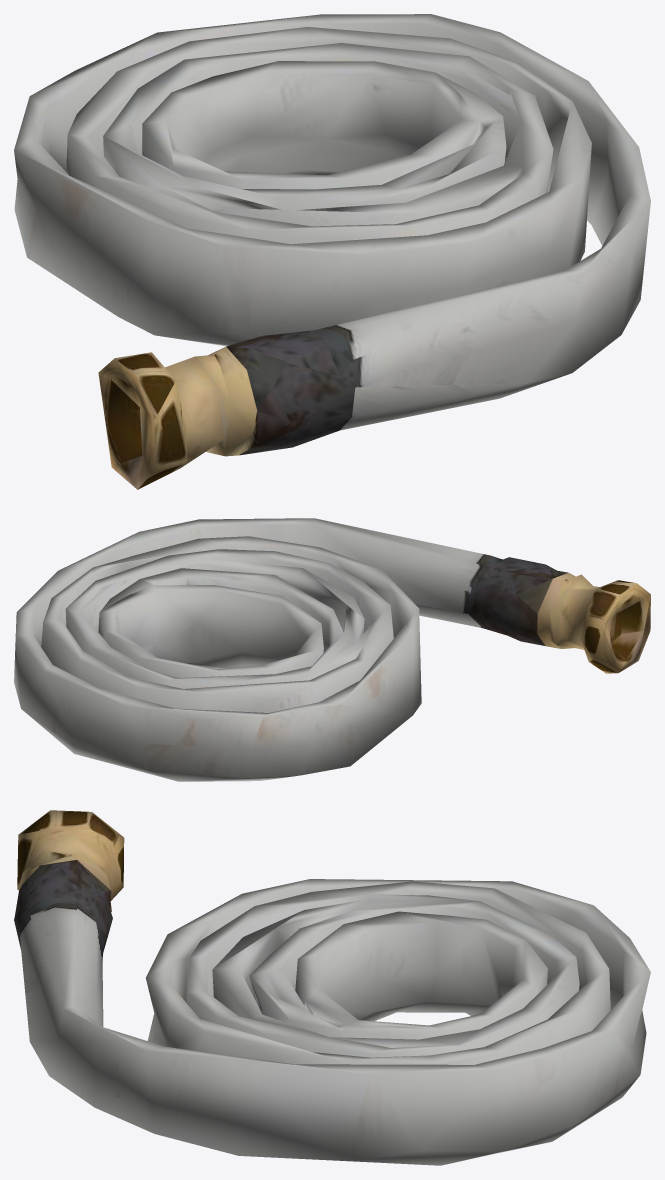
File: lhi_fire_hose_coil.glb
3 views of the same model, one above another, from view 1: azimuth 30°, elevation 25°; view 2: azimuth 150°, elevation 25°; view 3: azimuth 270°, elevation 25° (orthographic). The views are drawn at different scales.
Parts seen in each view (by area): view 1: material; view 2: material; view 3: material.
Part boxes in pixels (bbox=[...]): material: bbox=[14, 14, 650, 489]; material: bbox=[14, 518, 650, 781]; material: bbox=[14, 810, 650, 1165].
Size of the model in its own units: 0.8557 by 0.15 by 0.8605.
Materials: 1 (1 with a texture image).
